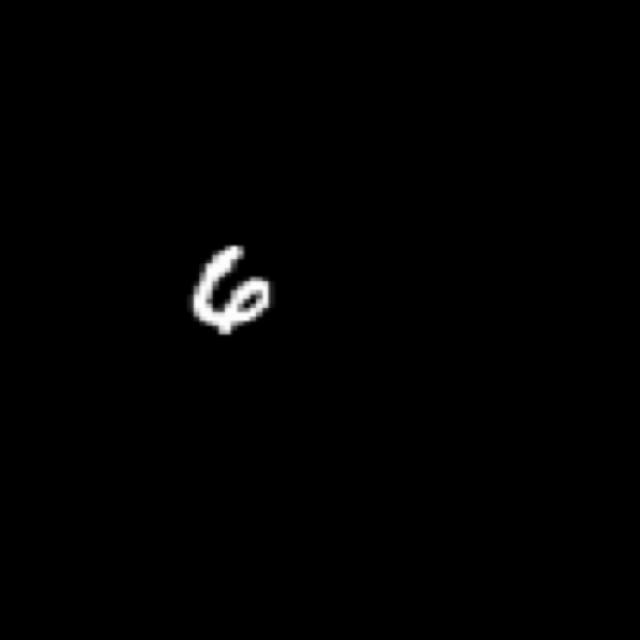six -6-: (185, 236, 282, 335)
